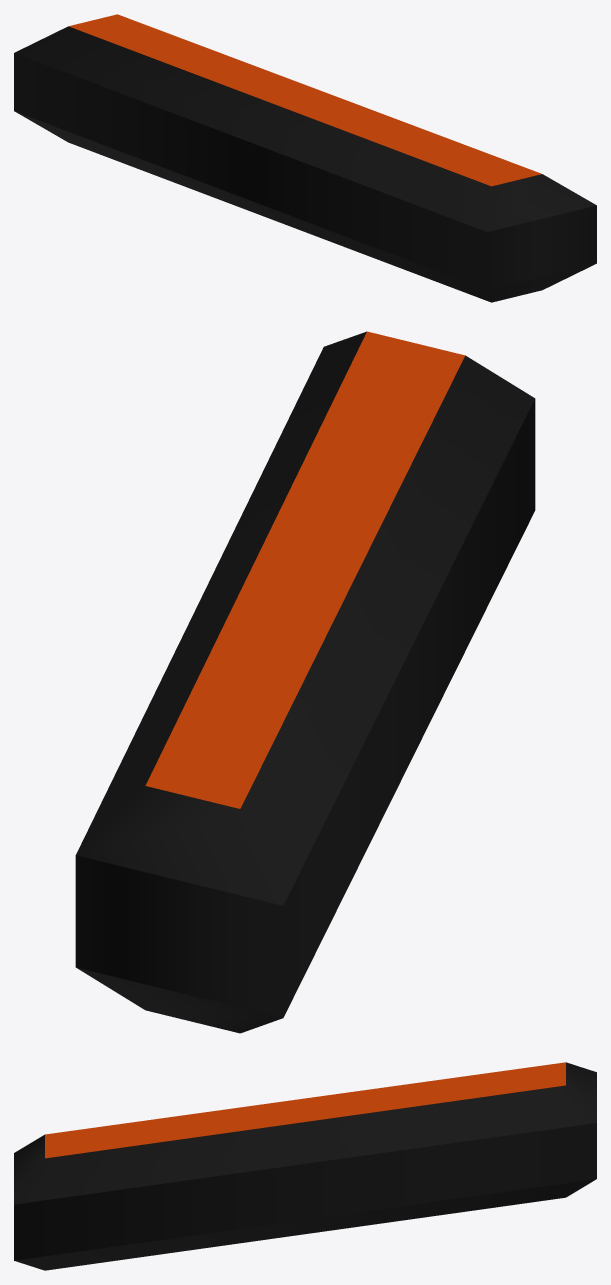
File: Backslash.fbx
The picture shows the model from 3 angles, top to bottom: view 1: azimuth 30°, elevation 25°; view 2: azimuth 150°, elevation 25°; view 3: azimuth 270°, elevation 25°; orthographic projection. The views are drawn at different scales.
Visible parts, largest first — view 1: Text; view 2: Text; view 3: Text.
Part boxes in pixels (x1,y1,x2,y2): Text: (14, 14, 596, 302); Text: (75, 331, 535, 1033); Text: (14, 1062, 596, 1270).
Size of the model in its own units: 0.4048 by 0.16 by 0.7533.
